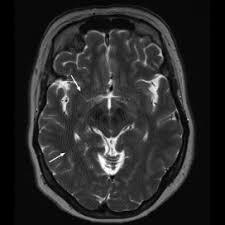Normal_Brain: (2, 3, 225, 225)
